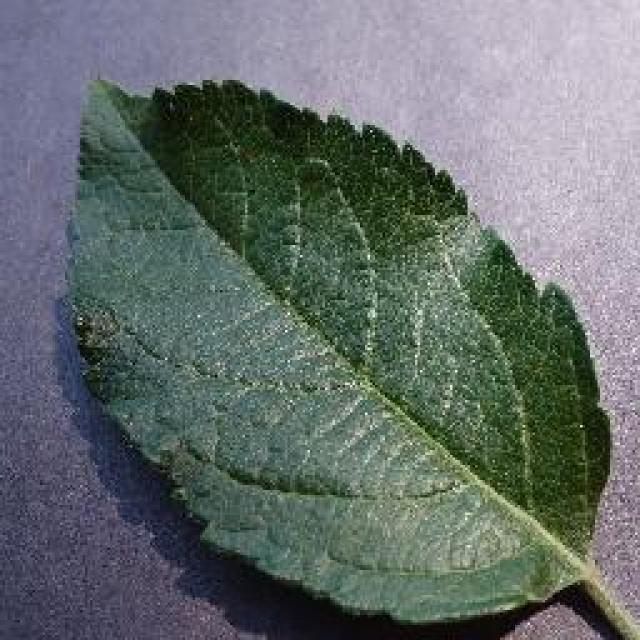apple healthy: (60, 73, 628, 635)
